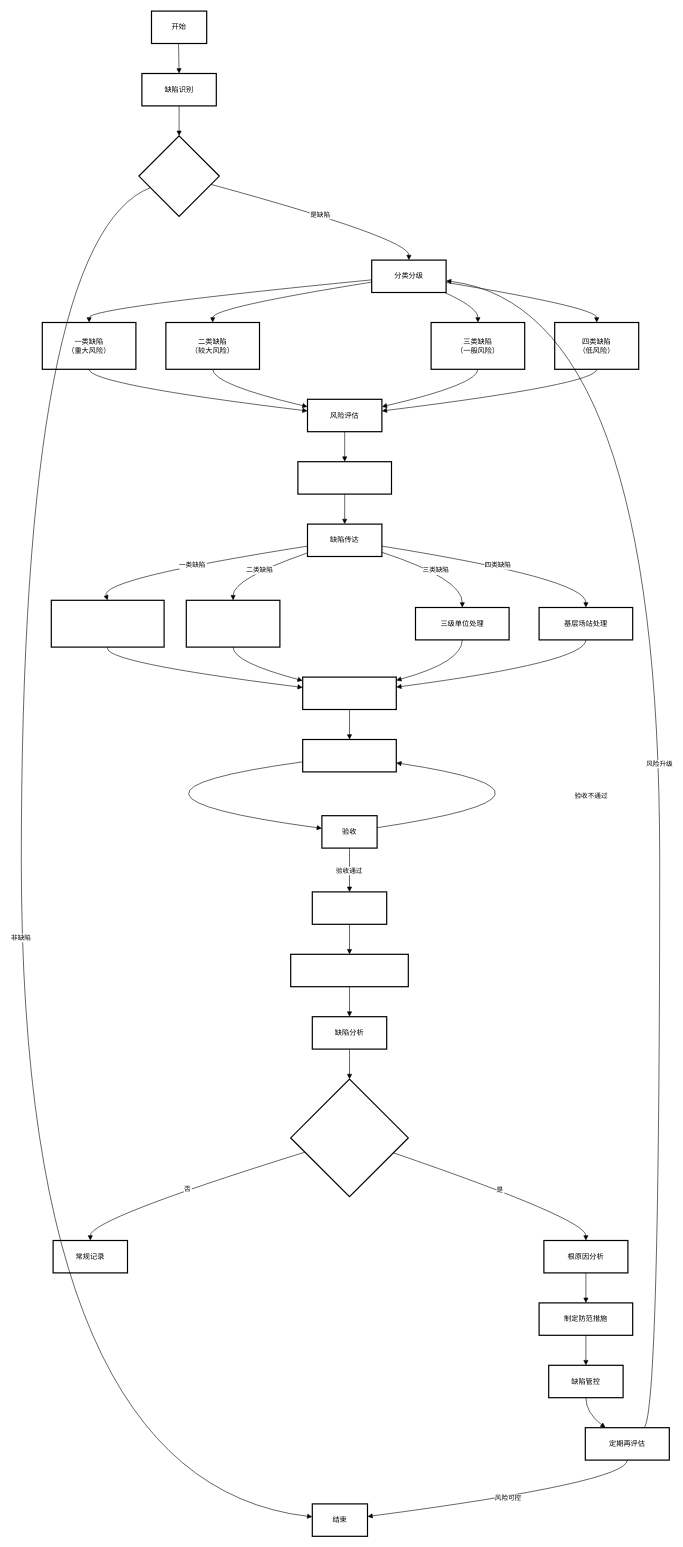
This 683x1547 diagram has some shape labels left out. The shapes that lost their labels are listed below. From the top down, each one's box as (x1, y1, x2, y2) in pixels, then its label:
(138, 135, 220, 217): 确认与登记
(297, 461, 392, 494): 制定响应措施
(50, 599, 164, 647): 上报公司分管领导 及业务部门
(185, 599, 280, 647): 上报二级单位 业务部门
(302, 676, 397, 710): 制定消除方案
(302, 739, 397, 772): 实施消除措施
(311, 891, 387, 925): 信息完善
(290, 953, 409, 987): 更新台账/技术档案
(290, 1078, 409, 1197): 是否一类/二类缺陷?
